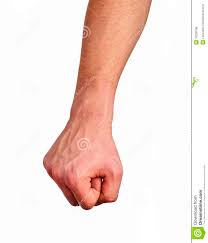fist: (49, 130, 122, 204)
